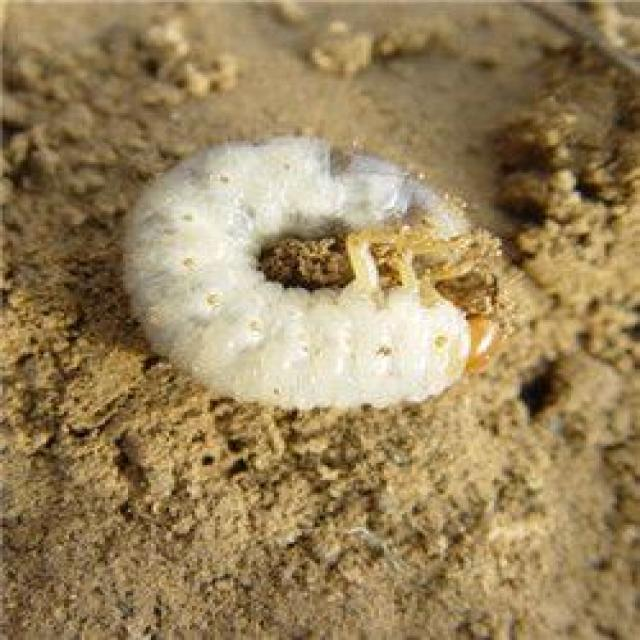Grub-Adult-: (86, 100, 533, 423)
